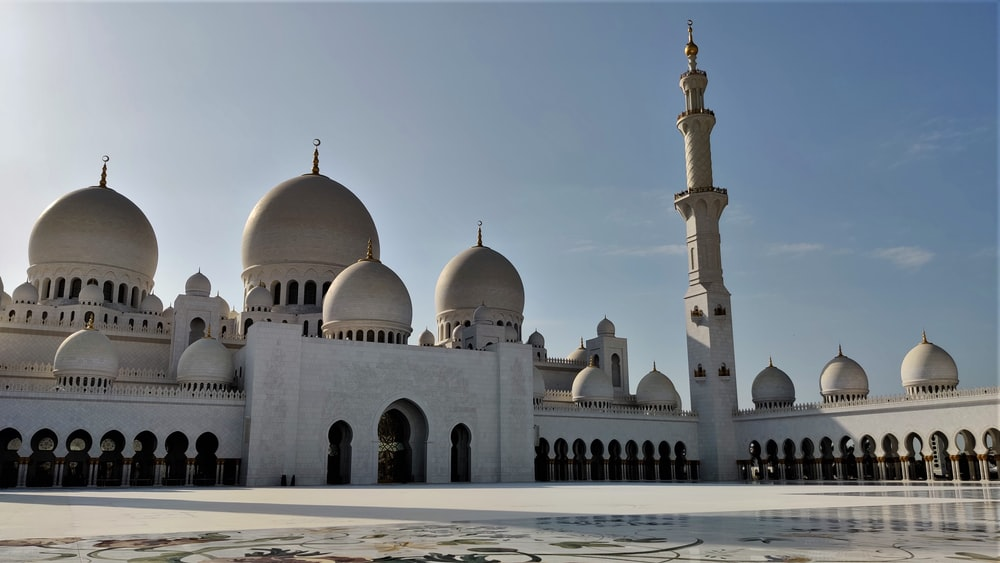Mosque: (8, 36, 969, 497)
